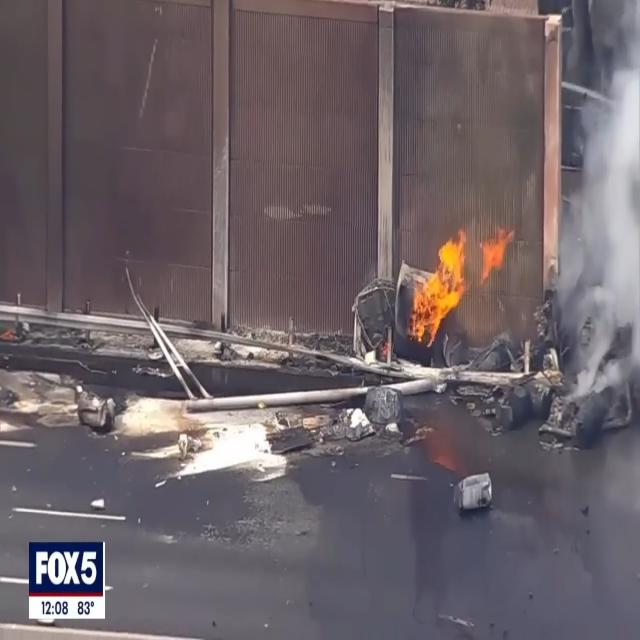fire: (410, 223, 515, 349)
